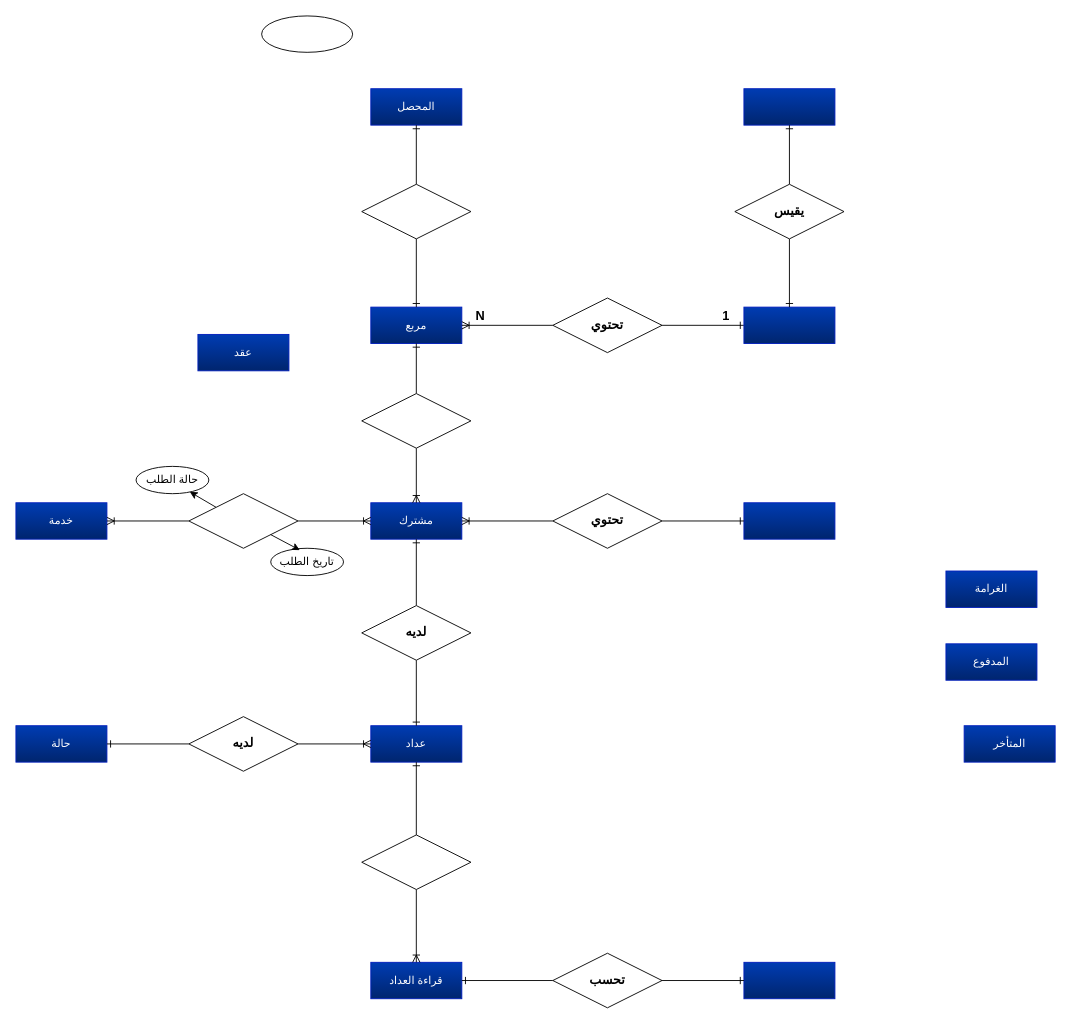
Some shapes in this 1071 by 1024 pixel diagram are drawn without their labels. Each missing label, with the box of its shape:
Attribute: (261, 15, 353, 52)
العداد المركزي: (743, 88, 835, 125)
تعرفة اشتراك: (743, 502, 835, 539)
فاتورة: (743, 961, 835, 999)
منطقة: (743, 306, 835, 344)
يحتوي: (361, 393, 471, 448)
يسجل: (361, 834, 471, 890)
يطلب: (188, 493, 298, 548)
يعمل في: (361, 183, 471, 239)
